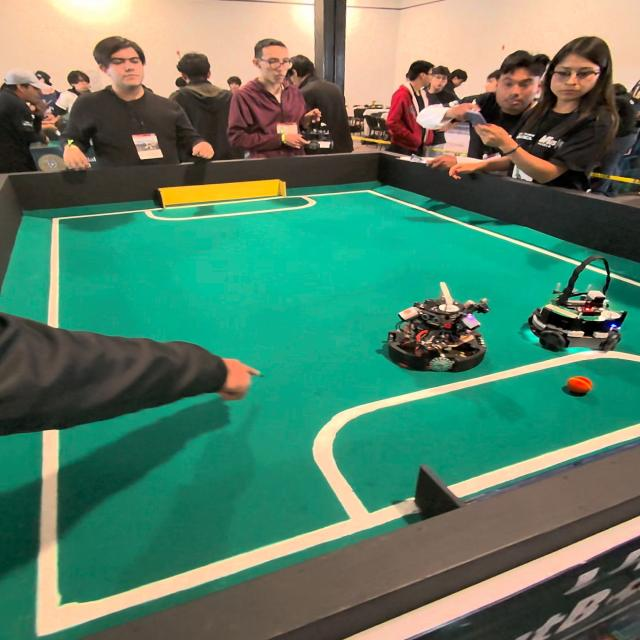Robot: (378, 280, 489, 377), (531, 258, 628, 353)
pelota: (566, 377, 593, 394)
